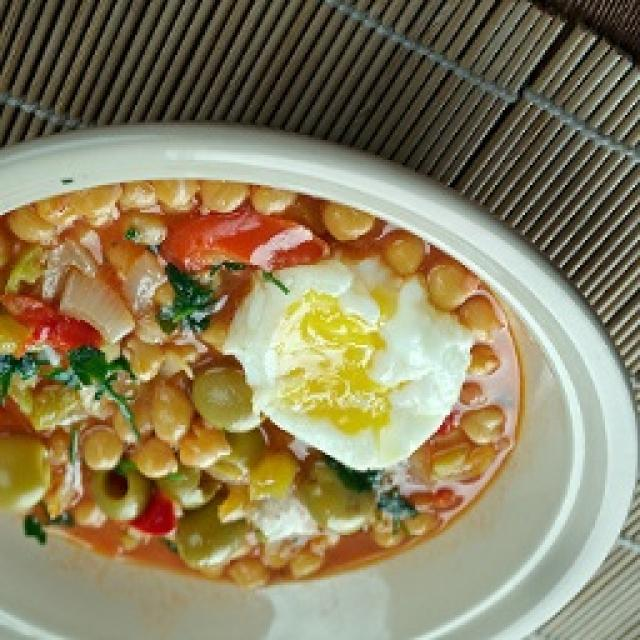Lablabi: (0, 124, 634, 640)
